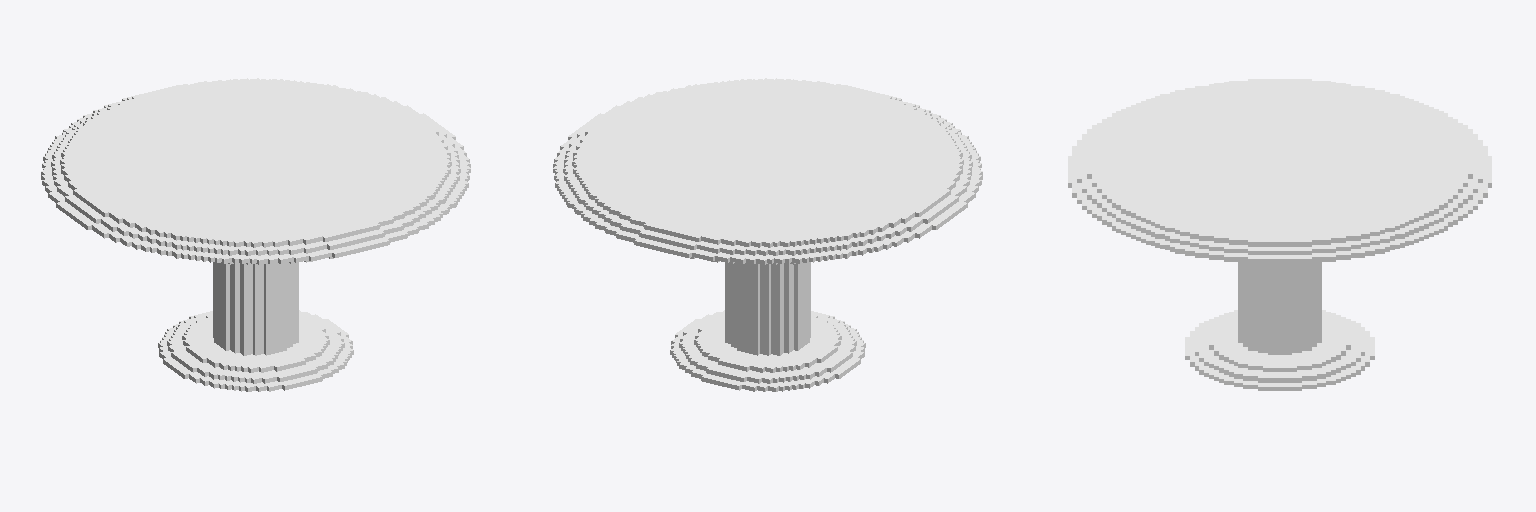
The model's file is Prison_Table.obj.
The picture shows the model from 3 angles: view 1: azimuth 30°, elevation 25°; view 2: azimuth 150°, elevation 25°; view 3: azimuth 270°, elevation 25°; orthographic projection.
Bounding box in the file's own units: 87 × 43 × 87.